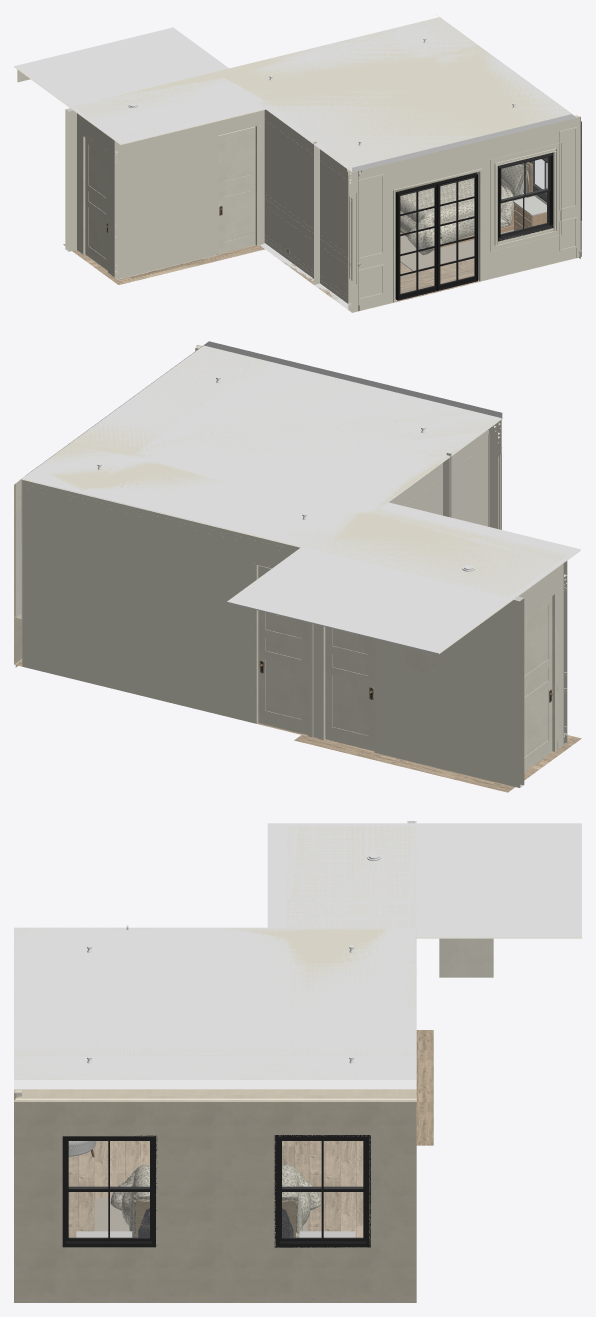
Rendered from primary-bedroom-28549e2f1f5a.glb.
The picture shows the model from 3 angles, top to bottom: view 1: azimuth 30°, elevation 25°; view 2: azimuth 150°, elevation 25°; view 3: azimuth 270°, elevation 25°; orthographic projection. The views are drawn at different scales.
Visible parts, largest first — view 1: primary-bedroom-e8793759323e04f0, primary-bedroom-9d91b47435c6fb33, primary-bedroom-b0ade14315e4f1c3, primary-bedroom-look-9ecc0d558be1c706, primary-bedroom-look-9d91b47435c6fb33, primary-bedroom-fc6585fecfaf7ec3, primary-bedroom-18f70a4a9eda5dac, primary-bedroom-42fce09358828e49, primary-bedroom-d70d42a253f78e60, primary-bedroom-e1735639a83d20d7, primary-bedroom-c791a0f218fead78, primary-bedroom-6c54e09c161b5848 (+20 smaller); view 2: primary-bedroom-21ac2ed1b4475155, primary-bedroom-9d91b47435c6fb33, primary-bedroom-e8793759323e04f0, primary-bedroom-look-9d91b47435c6fb33, primary-bedroom-b7a870a0f6b43c8c, primary-bedroom-6d601da8073fdc0e, primary-bedroom-6c54e09c161b5848, primary-bedroom-c791a0f218fead78, primary-bedroom-look-21ac2ed1b4475155, primary-bedroom-look-2575515a05775d9e, primary-bedroom-e48b5483df8cacdb, primary-bedroom-fc6585fecfaf7ec3 (+6 smaller); view 3: primary-bedroom-9d91b47435c6fb33, primary-bedroom-adb6f49a6d2cbec3, primary-bedroom-look-9d91b47435c6fb33, primary-bedroom-16d9002bc6318568, primary-bedroom-e8793759323e04f0, primary-bedroom-91f952a1d198b4a4, primary-bedroom-2575515a05775d9e, primary-bedroom-f5a37a5545b9d676, primary-bedroom-791abe15be22adf2, primary-bedroom-look-95b94d4b81cfb474, primary-bedroom-look-2575515a05775d9e, primary-bedroom-b29583548b72a1ea (+4 smaller).
Boxes of the visible parts, <box> form: primary-bedroom-e8793759323e04f0: <box>74,15,575,171</box>; primary-bedroom-9d91b47435c6fb33: <box>74,17,575,172</box>; primary-bedroom-b0ade14315e4f1c3: <box>348,116,581,312</box>; primary-bedroom-look-9ecc0d558be1c706: <box>124,111,259,276</box>; primary-bedroom-look-9d91b47435c6fb33: <box>14,27,265,144</box>; primary-bedroom-fc6585fecfaf7ec3: <box>260,109,319,284</box>; primary-bedroom-18f70a4a9eda5dac: <box>218,126,255,253</box>; primary-bedroom-42fce09358828e49: <box>438,174,477,290</box>; primary-bedroom-d70d42a253f78e60: <box>398,184,437,300</box>; primary-bedroom-e1735639a83d20d7: <box>498,152,553,241</box>; primary-bedroom-c791a0f218fead78: <box>314,144,358,310</box>; primary-bedroom-6c54e09c161b5848: <box>82,135,108,272</box>; primary-bedroom-21ac2ed1b4475155: <box>22,480,508,785</box>; primary-bedroom-9d91b47435c6fb33: <box>21,345,567,597</box>; primary-bedroom-e8793759323e04f0: <box>25,341,566,597</box>; primary-bedroom-look-9d91b47435c6fb33: <box>227,502,580,654</box>; primary-bedroom-b7a870a0f6b43c8c: <box>258,565,307,734</box>; primary-bedroom-6d601da8073fdc0e: <box>325,627,374,750</box>; primary-bedroom-6c54e09c161b5848: <box>524,592,555,771</box>; primary-bedroom-c791a0f218fead78: <box>443,422,496,526</box>; primary-bedroom-look-21ac2ed1b4475155: <box>509,596,524,787</box>; primary-bedroom-look-2575515a05775d9e: <box>294,735,581,792</box>; primary-bedroom-e48b5483df8cacdb: <box>518,563,563,748</box>; primary-bedroom-fc6585fecfaf7ec3: <box>388,457,449,515</box>; primary-bedroom-9d91b47435c6fb33: <box>14,825,416,1089</box>; primary-bedroom-adb6f49a6d2cbec3: <box>14,1100,416,1247</box>; primary-bedroom-look-9d91b47435c6fb33: <box>267,823,581,938</box>; primary-bedroom-16d9002bc6318568: <box>15,1248,416,1300</box>; primary-bedroom-e8793759323e04f0: <box>14,825,416,1088</box>; primary-bedroom-91f952a1d198b4a4: <box>274,1135,370,1247</box>; primary-bedroom-2575515a05775d9e: <box>14,1141,416,1302</box>; primary-bedroom-f5a37a5545b9d676: <box>62,1135,157,1247</box>; primary-bedroom-791abe15be22adf2: <box>14,1089,416,1098</box>; primary-bedroom-look-95b94d4b81cfb474: <box>439,938,493,977</box>; primary-bedroom-look-2575515a05775d9e: <box>416,1030,433,1145</box>; primary-bedroom-b29583548b72a1ea: <box>125,1165,304,1237</box>.
Bounding box in the file's own units: 8.2 × 3.04 × 7.21.
45 materials, 12 textured.
